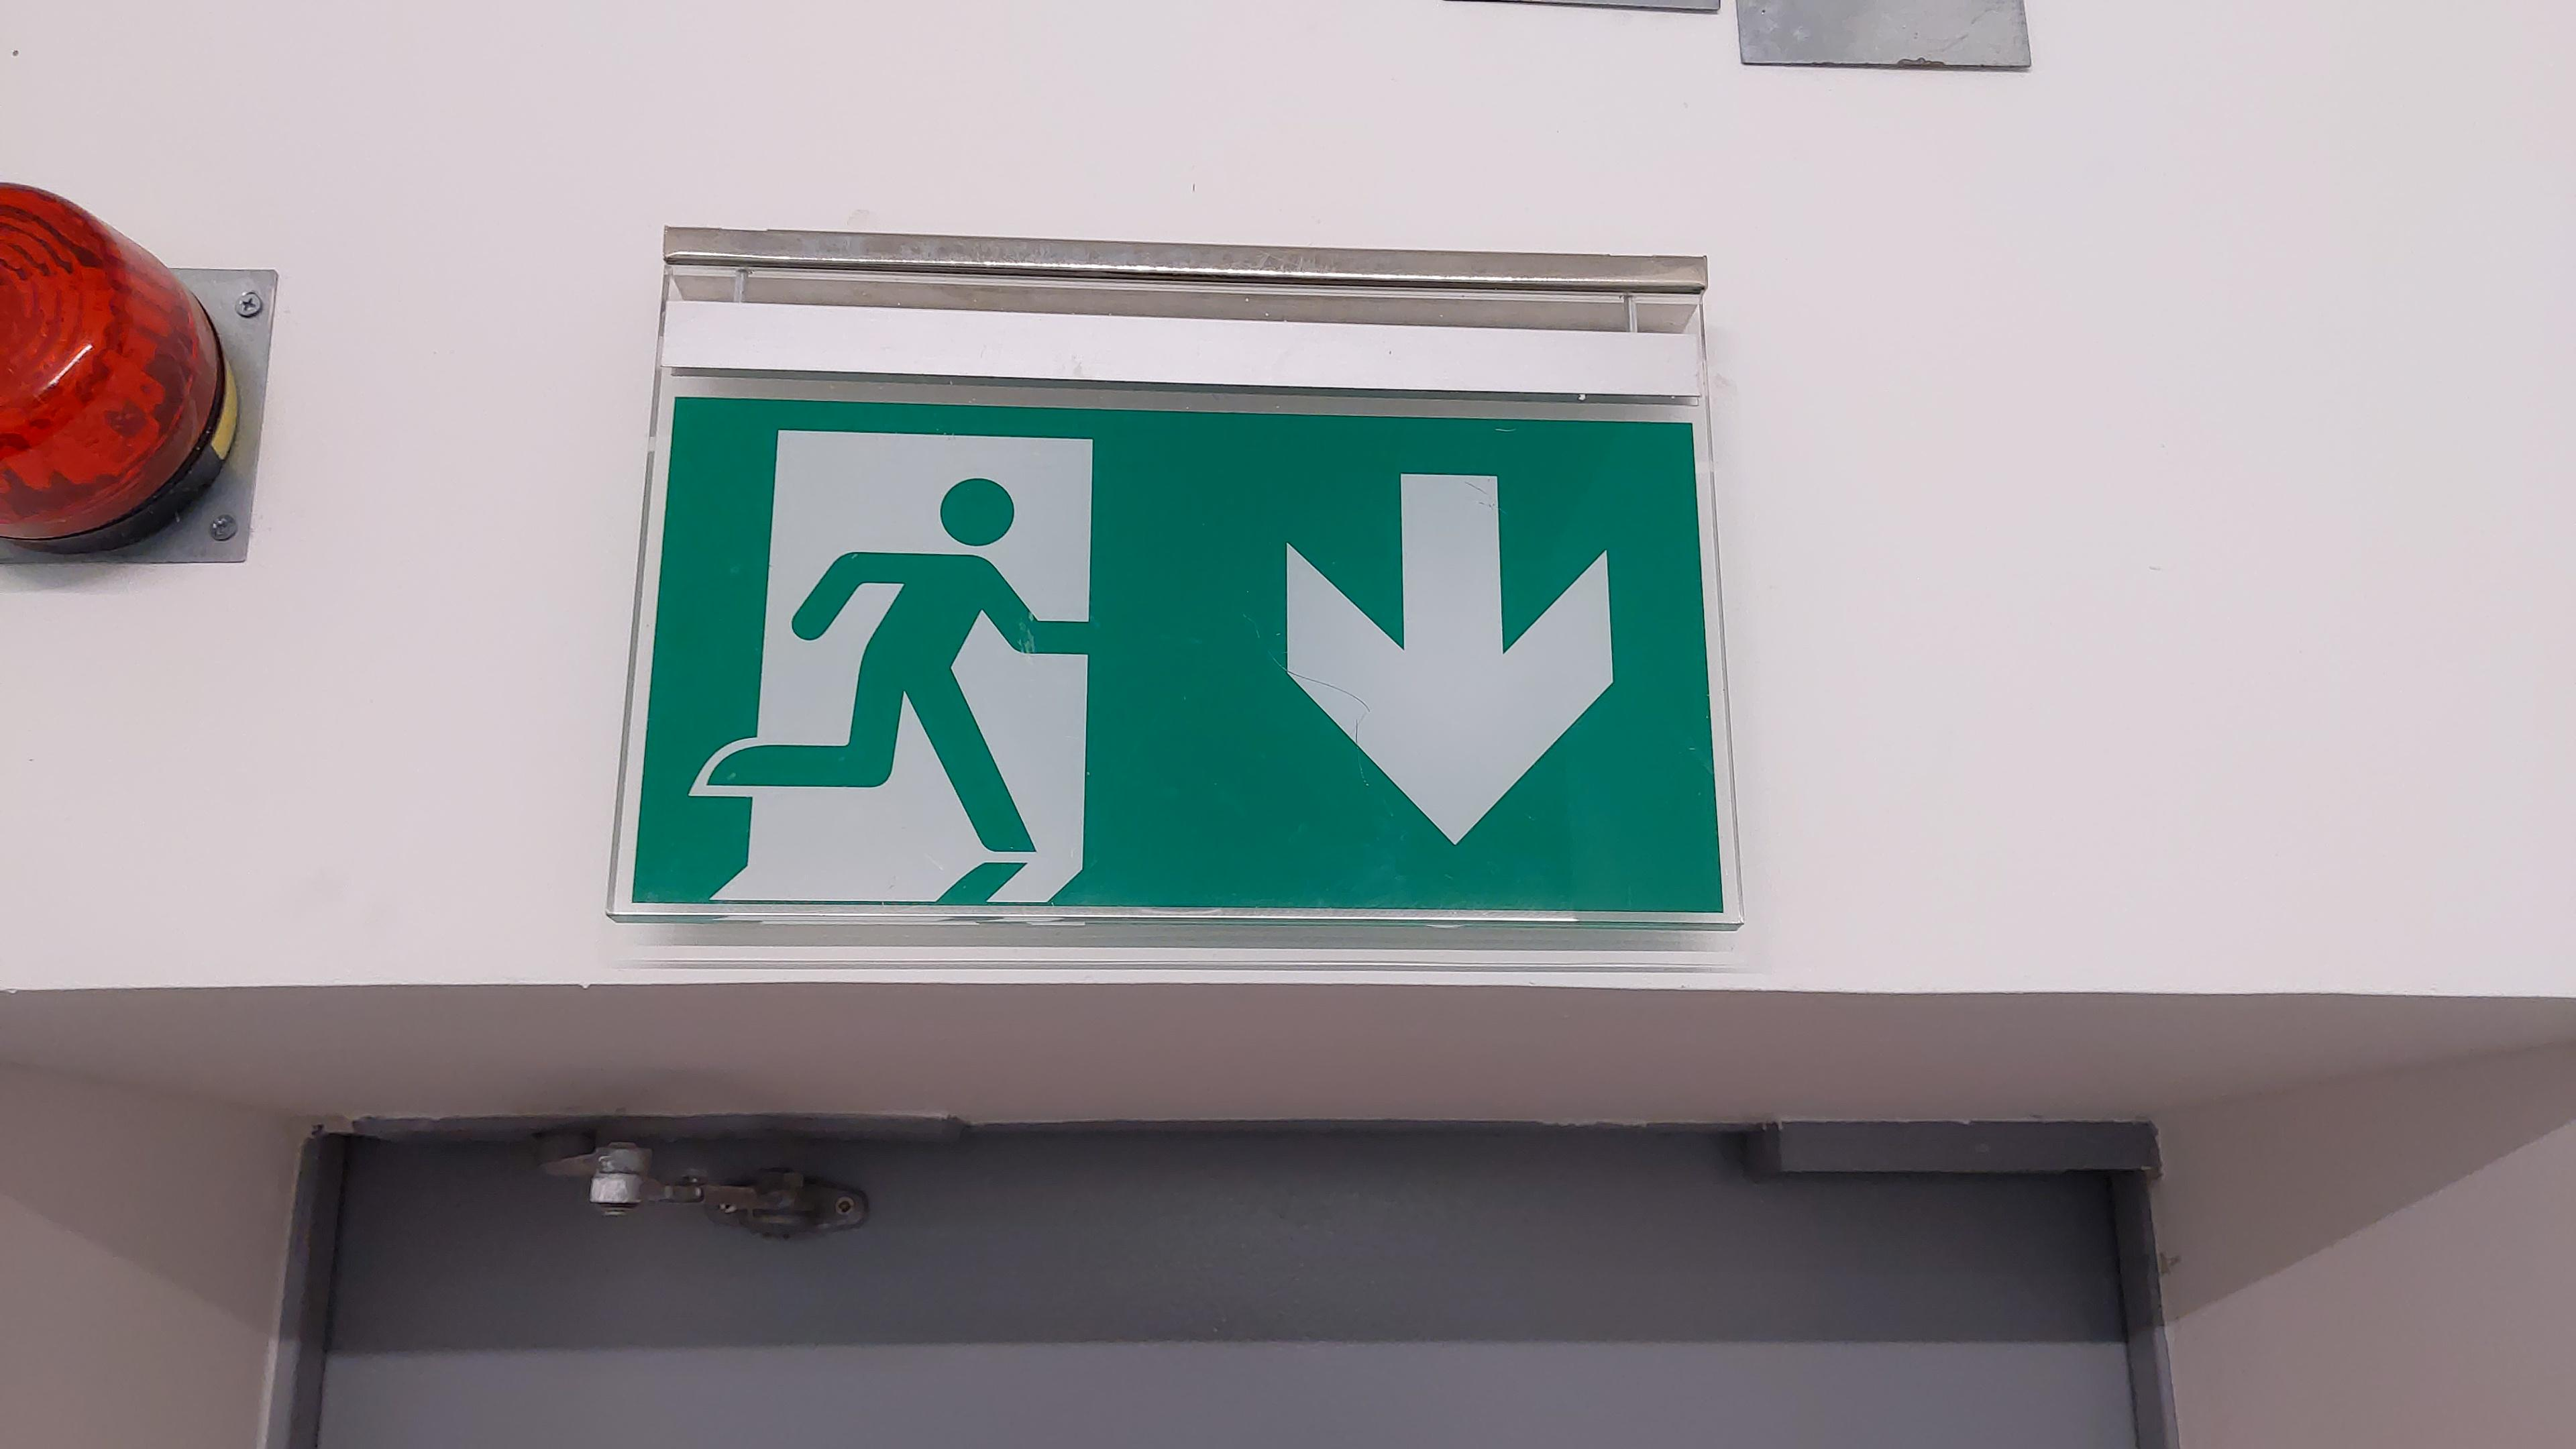emergency down arrow: (1274, 464, 1624, 856)
emergency exit: (676, 421, 1099, 911)
